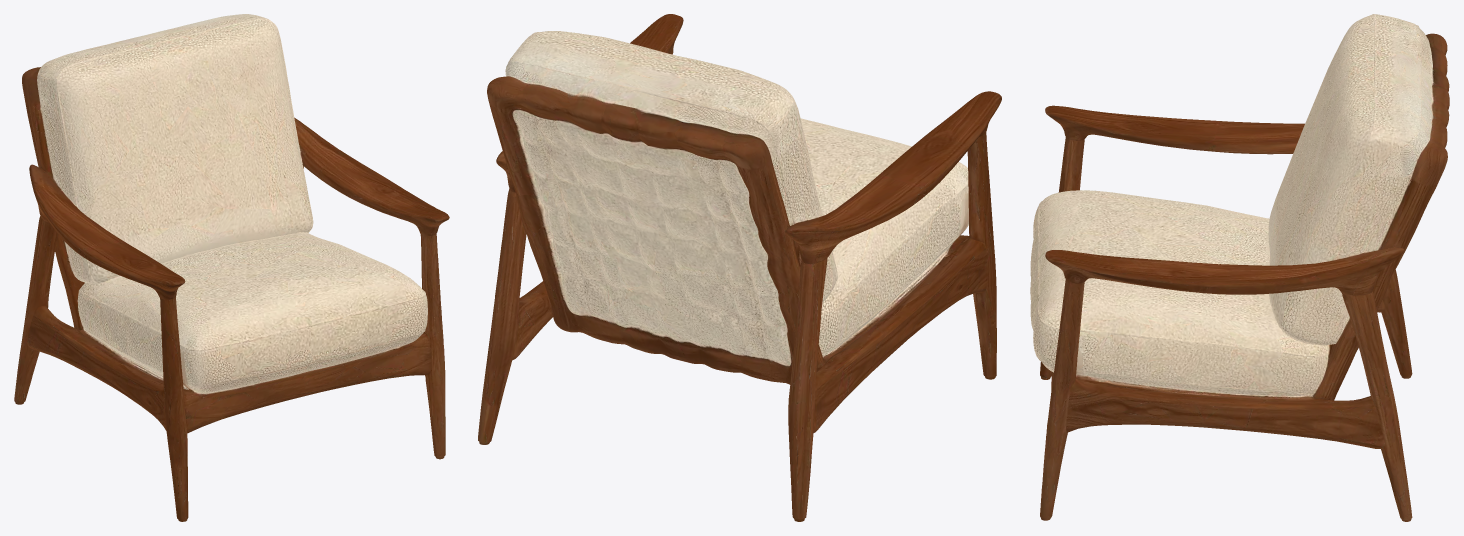
The model's file is chair.glb.
3 views of the same model, side by side, from view 1: azimuth 30°, elevation 25°; view 2: azimuth 150°, elevation 25°; view 3: azimuth 270°, elevation 25° (orthographic). The views are drawn at different scales.
Visible parts, largest first — view 1: Mesh_0; view 2: Mesh_0; view 3: Mesh_0.
Boxes of the visible parts, left/top/right/bottom form: Mesh_0: left=14, top=14, right=449, bottom=521; Mesh_0: left=478, top=14, right=1001, bottom=521; Mesh_0: left=1030, top=14, right=1449, bottom=521.
Bounding box in the file's own units: 1.76 × 1.9 × 1.89.
1 material, 1 textured.
